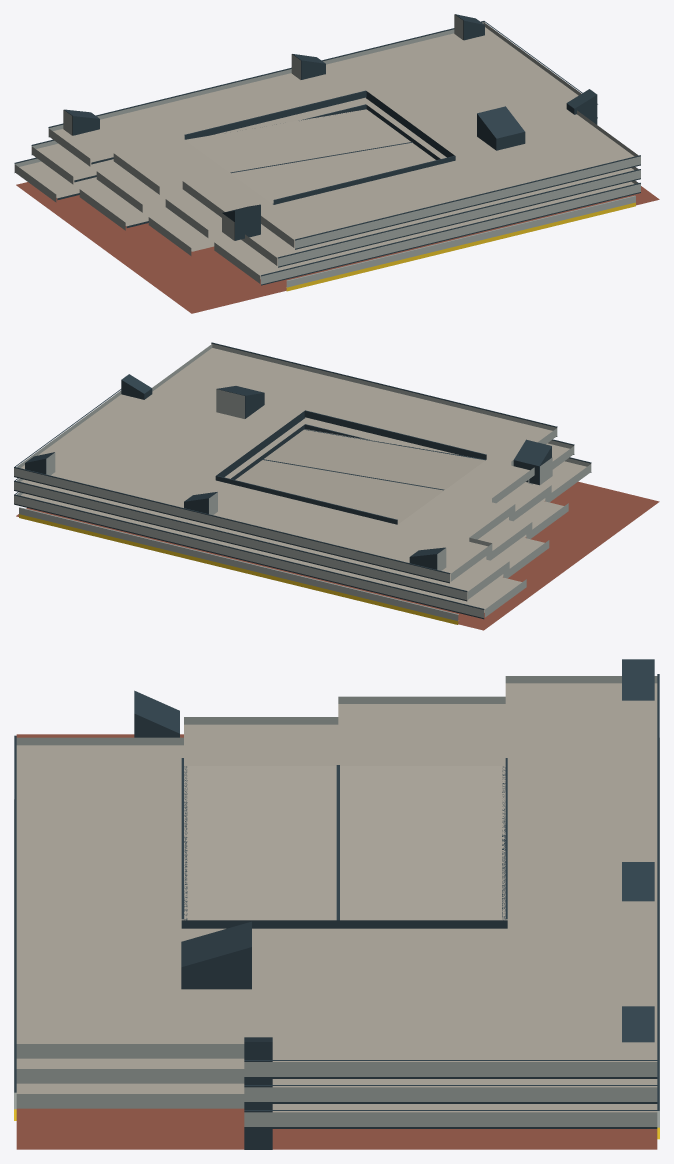
The model's file is cyxd_garage22_lod2.gltf.
The picture shows the model from 3 angles, top to bottom: view 1: azimuth 30°, elevation 25°; view 2: azimuth 150°, elevation 25°; view 3: azimuth 270°, elevation 25°; orthographic projection. The views are drawn at different scales.
Visible parts, largest first — view 1: cyxd_garage22; view 2: cyxd_garage22; view 3: cyxd_garage22.
Boxes of the visible parts, <box> form: cyxd_garage22: <box>14,14,659,313</box>; cyxd_garage22: <box>14,342,659,630</box>; cyxd_garage22: <box>14,659,659,1149</box>.
Size of the model in its own units: 114 by 15.8 by 74.9.
